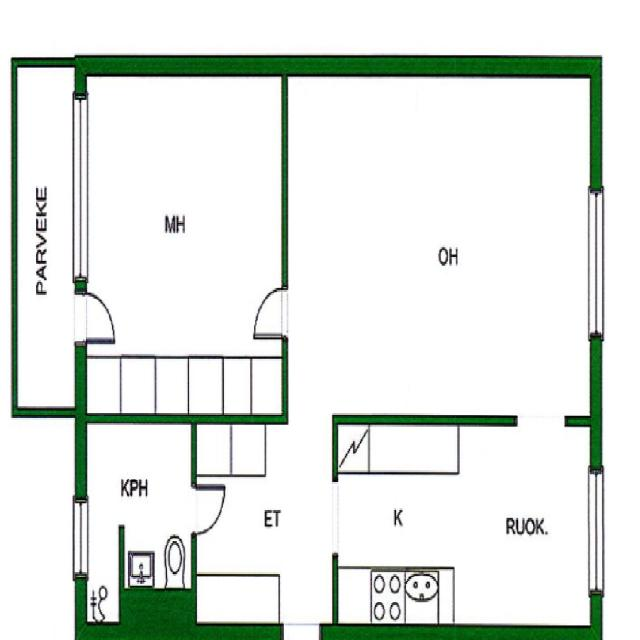door: (75, 294, 114, 341), (256, 291, 287, 335), (191, 487, 222, 531)
